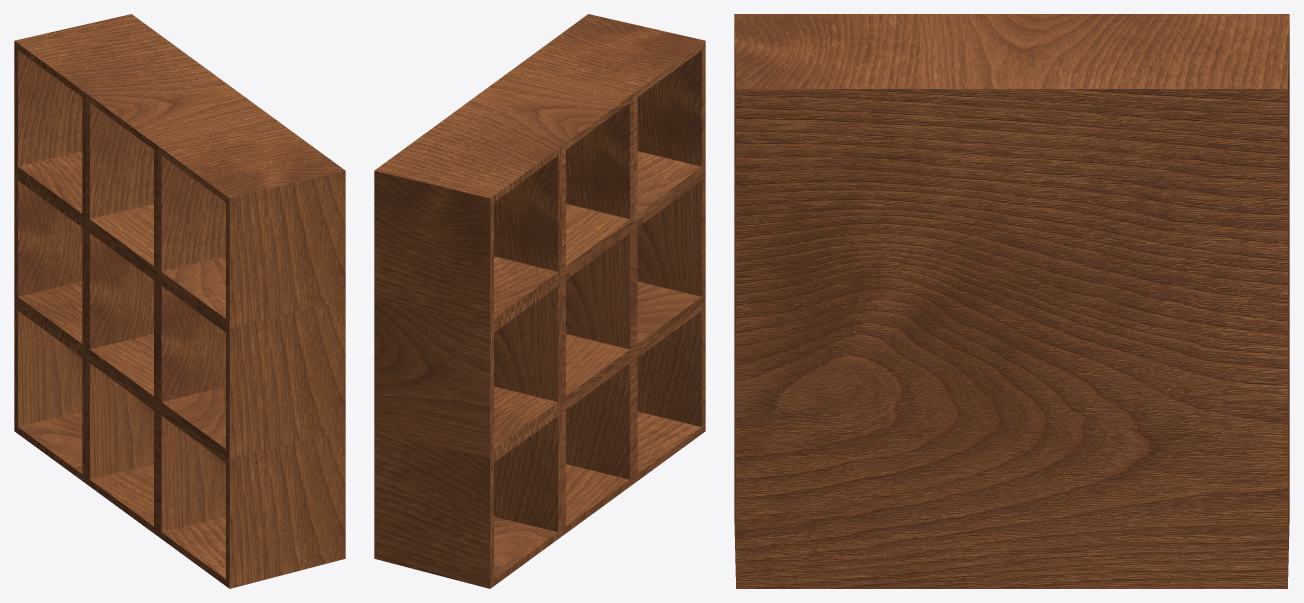
File: woodenShelf.fbx
3 views of the same model, side by side, from view 1: azimuth 30°, elevation 25°; view 2: azimuth 150°, elevation 25°; view 3: azimuth 270°, elevation 25° (orthographic). The views are drawn at different scales.
Visible parts, largest first — view 1: WoodenShelf, WoodenShelf.001, WoodenShelf.006, WoodenShelf.007, WoodenShelf.003, WoodenShelf.004, WoodenShelf.009, WoodenShelf.002, WoodenShelf.005, WoodenShelf.008; view 2: WoodenShelf, WoodenShelf.003, WoodenShelf.004, WoodenShelf.009, WoodenShelf.001, WoodenShelf.006, WoodenShelf.007, WoodenShelf.002, WoodenShelf.005, WoodenShelf.008; view 3: WoodenShelf.
Boxes of the visible parts, x1,y1,x2,y2 form: WoodenShelf: (14, 14, 345, 588); WoodenShelf.001: (18, 151, 82, 213); WoodenShelf.006: (18, 281, 82, 343); WoodenShelf.007: (18, 411, 82, 473); WoodenShelf.003: (162, 256, 225, 318); WoodenShelf.004: (162, 386, 225, 448); WoodenShelf.009: (162, 516, 225, 578); WoodenShelf.002: (90, 204, 153, 265); WoodenShelf.005: (90, 334, 153, 395); WoodenShelf.008: (90, 464, 153, 526); WoodenShelf: (374, 14, 705, 588); WoodenShelf.003: (637, 151, 701, 213); WoodenShelf.004: (637, 281, 701, 343); WoodenShelf.009: (637, 411, 701, 473); WoodenShelf.001: (494, 256, 557, 318); WoodenShelf.006: (494, 386, 557, 448); WoodenShelf.007: (494, 516, 557, 578); WoodenShelf.002: (566, 204, 629, 265); WoodenShelf.005: (566, 334, 629, 395); WoodenShelf.008: (566, 464, 629, 526); WoodenShelf: (734, 14, 1289, 588).
Size of the model in its own units: 66.97 by 214 by 214.
1 material, 1 textured.
